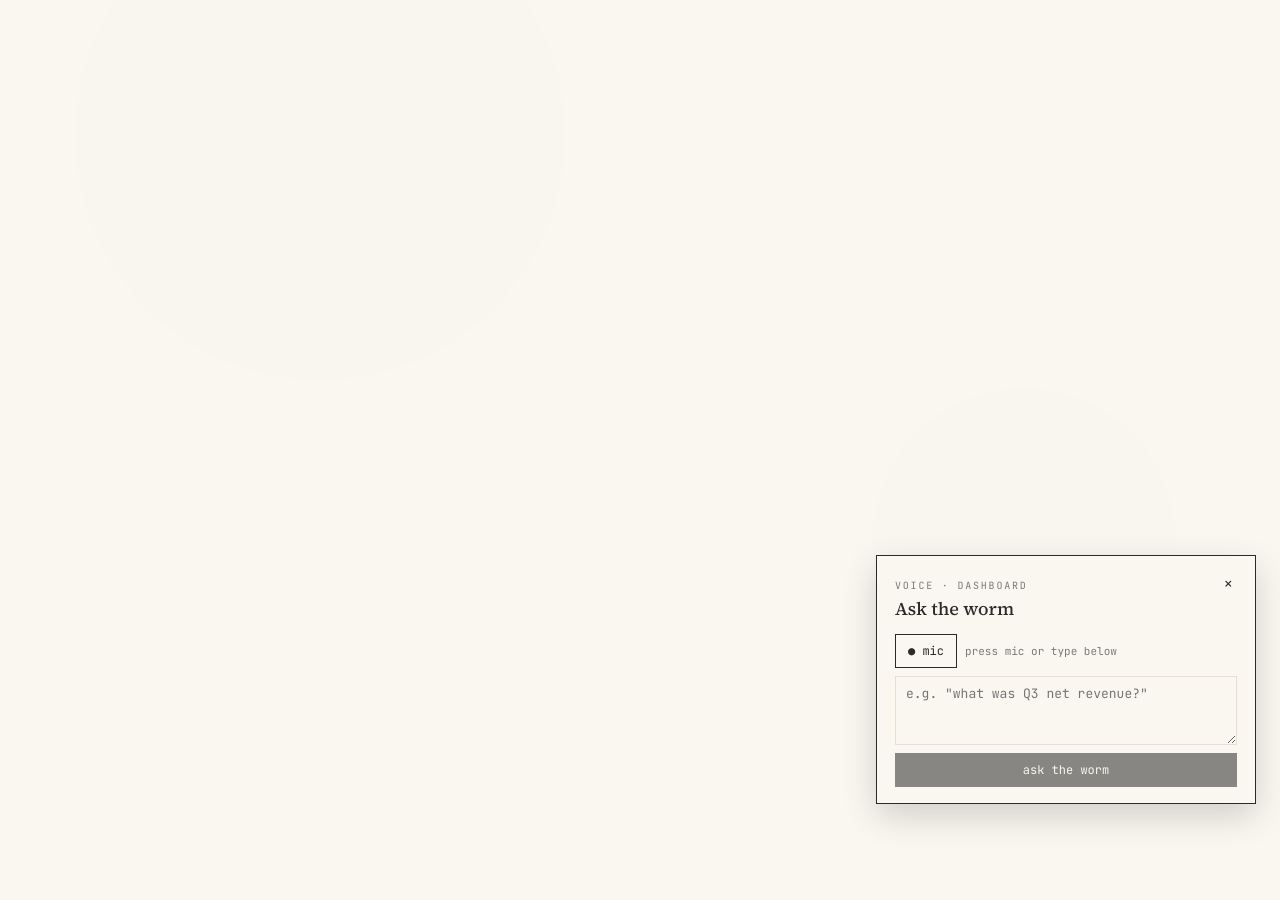
VoicePanel — speech-API graceful degradation › classifies a generic onerror code as the failed fallback with retry
This screenshot has width=1280, height=900.
Click the button with test id "voice-mic-toggle" at (926,651), box [895, 634, 957, 668]
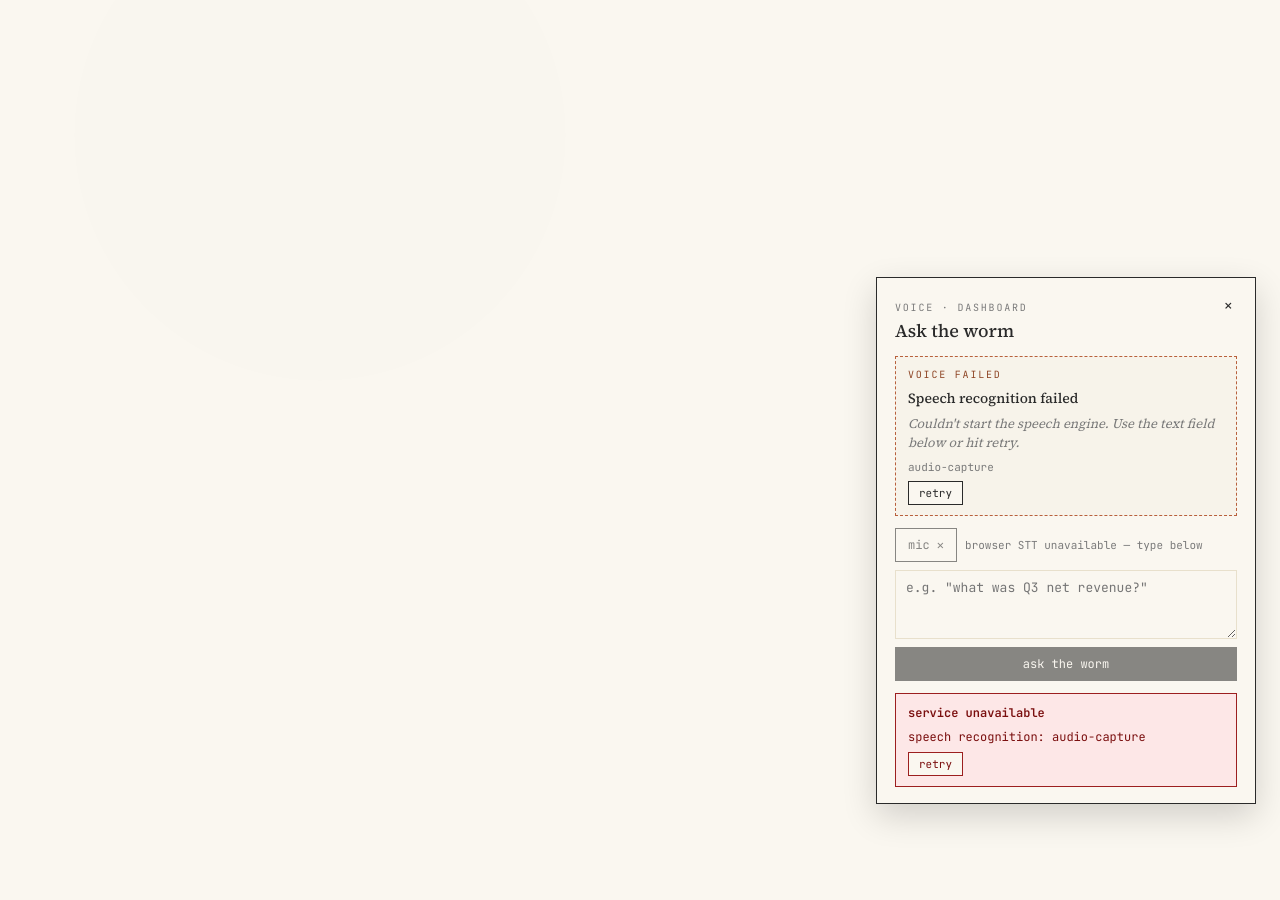
Check: the message with test id "voice-init-fallback" is shown, box [895, 356, 1237, 516]
Check: the button with test id "voice-init-retry" is shown, box [908, 481, 963, 505]
